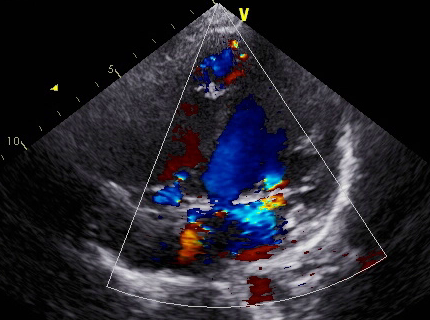MR: (211, 169, 316, 230)
